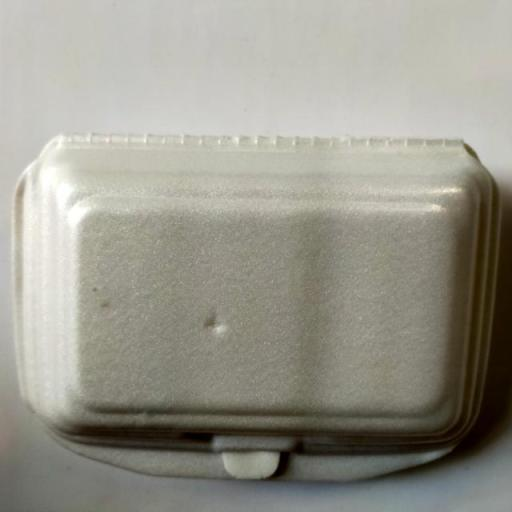styrofoam: (13, 136, 499, 479)
